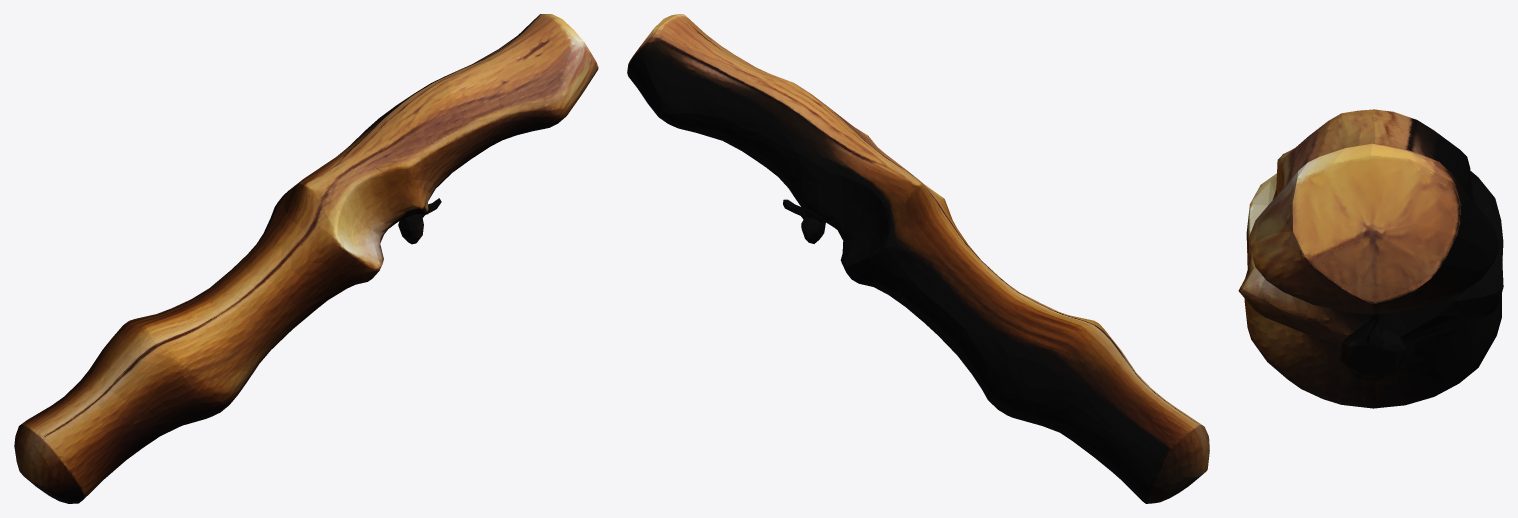
The model's file is wooden-corkscrew-handle-rustic.jpeg.glb.
3 renders of one model, left to right at view 1: azimuth 30°, elevation 25°; view 2: azimuth 150°, elevation 25°; view 3: azimuth 270°, elevation 25°, orthographic. The views are drawn at different scales.
Visible parts, largest first — view 1: world; view 2: world; view 3: world.
Part boxes in pixels (box(x1,y1,x2,y2)): world: box(14, 14, 598, 503); world: box(627, 14, 1209, 503); world: box(1238, 109, 1503, 408).
Bounding box in the file's own units: 1 × 0.6177 × 0.2047.
1 material, 1 textured.
